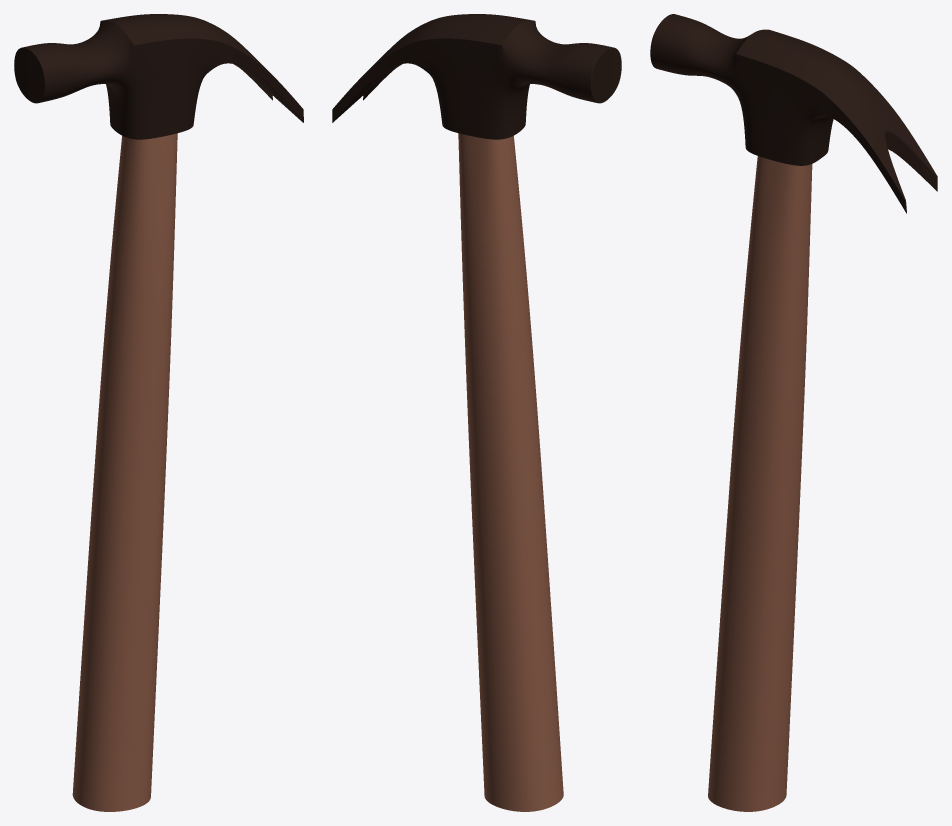
Rendered from hammer.fbx.
3 views of the same model, side by side, from view 1: azimuth 30°, elevation 25°; view 2: azimuth 150°, elevation 25°; view 3: azimuth 330°, elevation 25° (orthographic).
Parts seen in each view (by area): view 1: Cube; view 2: Cube; view 3: Cube.
Part boxes in pixels (x1,y1,x2,y2): Cube: (14,14,303,811); Cube: (332,14,621,811); Cube: (650,14,937,811).
Bounding box in the file's own units: 711 × 2016 × 183.
